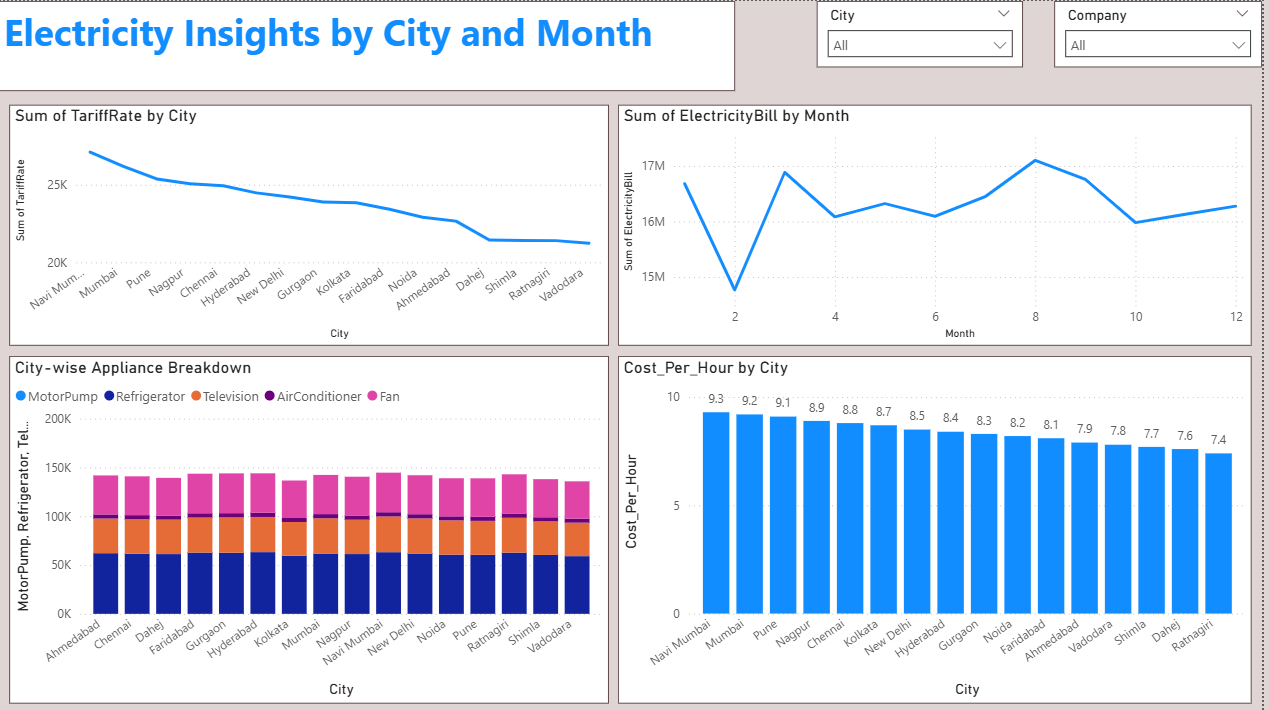

This screenshot's page, from the dashboard's own definition file:
{"tool":"powerbi","page":{"name":"Electricity Insights by City and Month","canvas":[1280,720],"ordinal":1},"visuals":[{"type":"columnChart","title":"City-wise Appliance Breakdown","fields":{"Category":["electricity.City"],"Y":["Sum(electricity.Monitor)","Sum(electricity.MotorPump)","Sum(electricity.Refrigerator)","Sum(electricity.Television)","Sum(electricity.AirConditioner)","Sum(electricity.Fan)"]},"box":[0,359.5,628.2,360.7],"z":0},{"type":"columnChart","fields":{"Category":["electricity.City"],"Y":["electricity.Cost_Per_Hour"]},"box":[628.2,359.5,651.8,360.7],"z":1},{"type":"lineChart","fields":{"Category":["electricity.City"],"Y":["Sum(electricity.TariffRate)"]},"box":[0,115.7,628.2,243.8],"z":2},{"type":"lineChart","fields":{"Category":["electricity.Month"],"Y":["Sum(electricity.ElectricityBill)"]},"box":[628.2,115.7,651.8,243.8],"z":3},{"type":"textbox","box":[0,0,860.8,115.7],"z":4},{"type":"slicer","fields":{"Values":["electricity.City"]},"box":[860.8,0,209,82.1],"z":5},{"type":"slicer","fields":{"Values":["electricity.Company"]},"box":[1069.8,0,210.2,58.5],"z":7}]}

Visuals, with their boxes in screenshot pixels (x1, y1, x2, y2), scaled from the page's 1280x720 canvas onto the 1269x710 screenshot:
"City-wise Appliance Breakdown" columnChart: locate(0, 355, 623, 709)
columnChart - electricity.City x electricity.Cost_Per_Hour: locate(623, 355, 1268, 709)
lineChart - electricity.City x Sum(electricity.TariffRate): locate(0, 114, 623, 355)
lineChart - electricity.Month x Sum(electricity.ElectricityBill): locate(623, 114, 1268, 355)
textbox: locate(0, 0, 853, 114)
slicer - electricity.City: locate(853, 0, 1061, 81)
slicer - electricity.Company: locate(1061, 0, 1268, 58)
